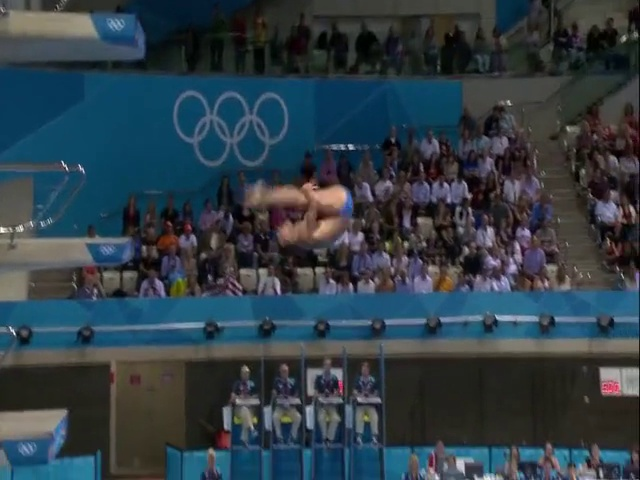diver: (247, 181, 355, 253)
